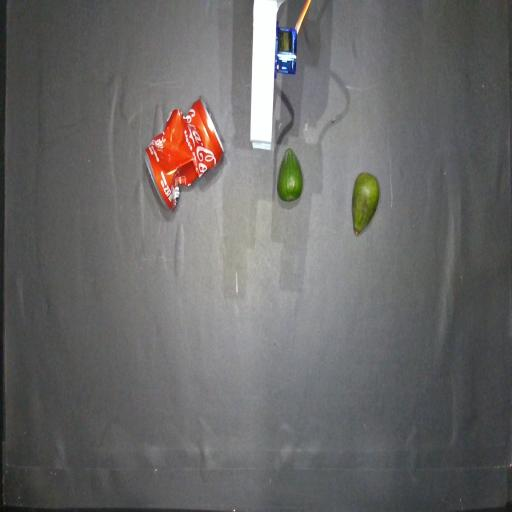higo: (352, 173, 379, 235), (277, 148, 303, 201)
lata_defectuoso: (145, 99, 223, 210)
